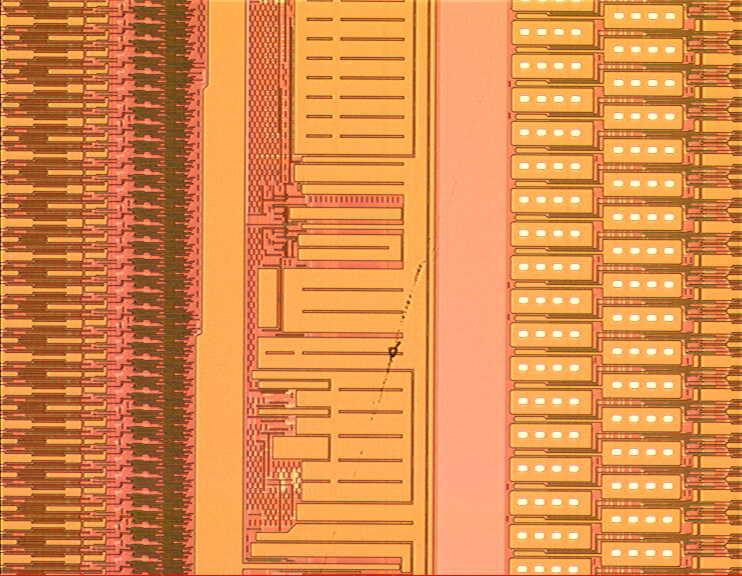SCRATCH: (318, 252, 435, 552)
